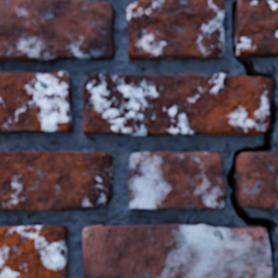brick: (83, 74, 271, 136), (83, 224, 271, 277), (0, 0, 115, 63), (0, 152, 113, 211), (127, 0, 224, 61), (128, 151, 225, 209), (0, 72, 73, 134), (0, 225, 69, 277), (235, 0, 277, 58), (236, 151, 277, 208)
crack: (226, 1, 276, 277), (128, 21, 152, 54), (134, 10, 148, 19), (44, 44, 52, 48)
